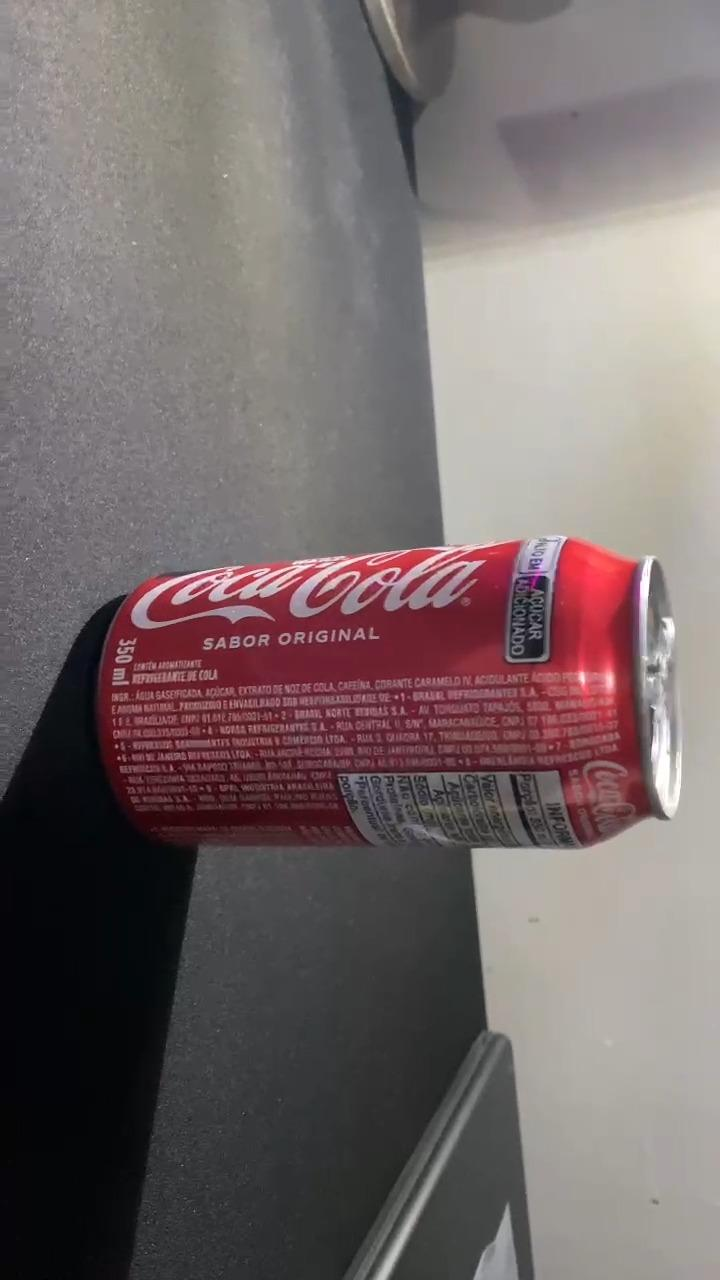coke: (93, 535, 697, 850)
